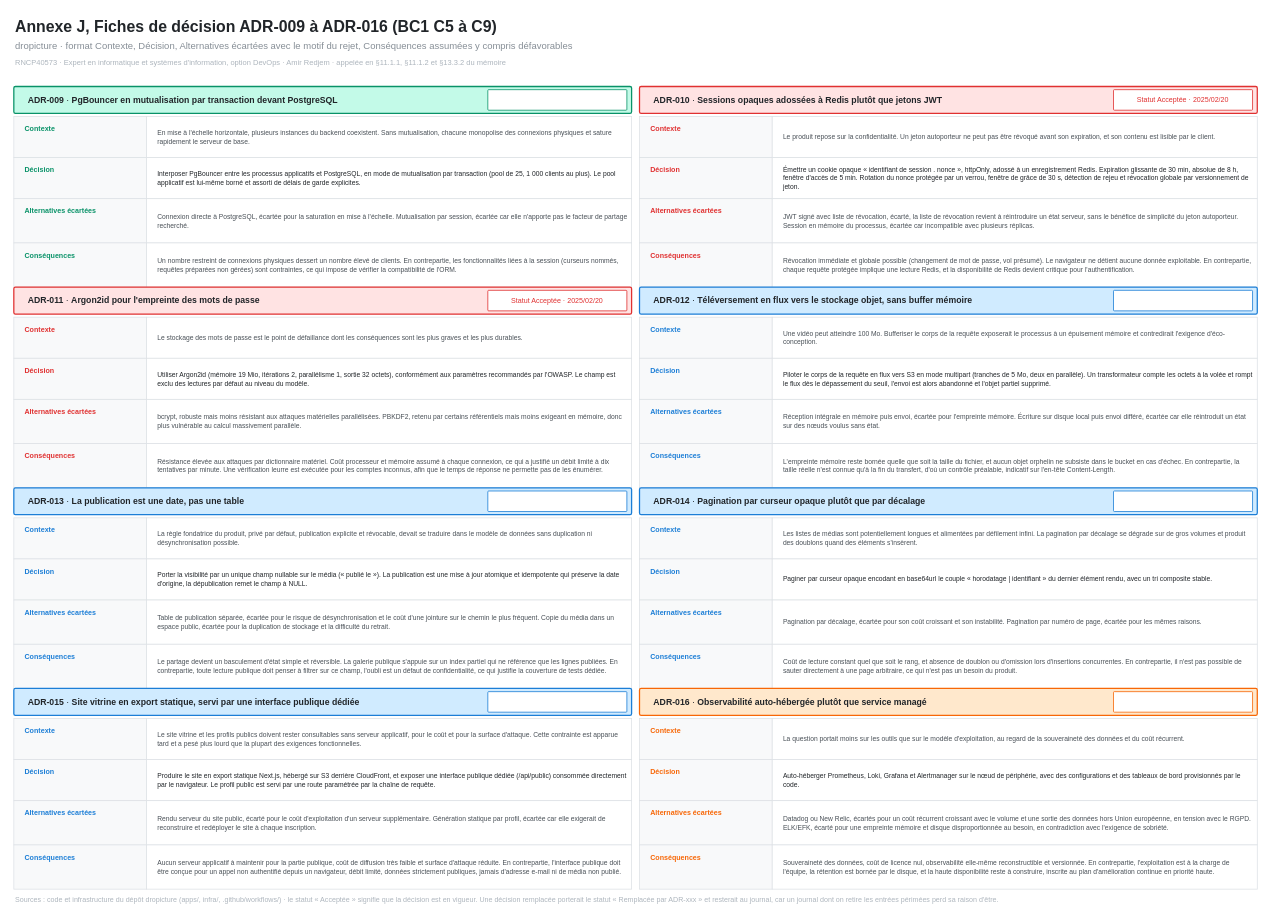
Some shapes in this 1272 by 920 pixel diagram are drawn without their labels. Each missing label, with the centre of its shape:
"Statut Acceptée · 2025/02/19" goes at pixel 557 99.
"Statut Acceptée · 2025/02/24" goes at pixel 1183 300.
"Statut Acceptée · 2025/02/25" goes at pixel 557 501.
"Statut Acceptée · 2025/02/26" goes at pixel 1183 501.
"Statut Acceptée · 2025/03/03" goes at pixel 557 701.
"Statut Acceptée · 2025/03/13" goes at pixel 1183 701.
